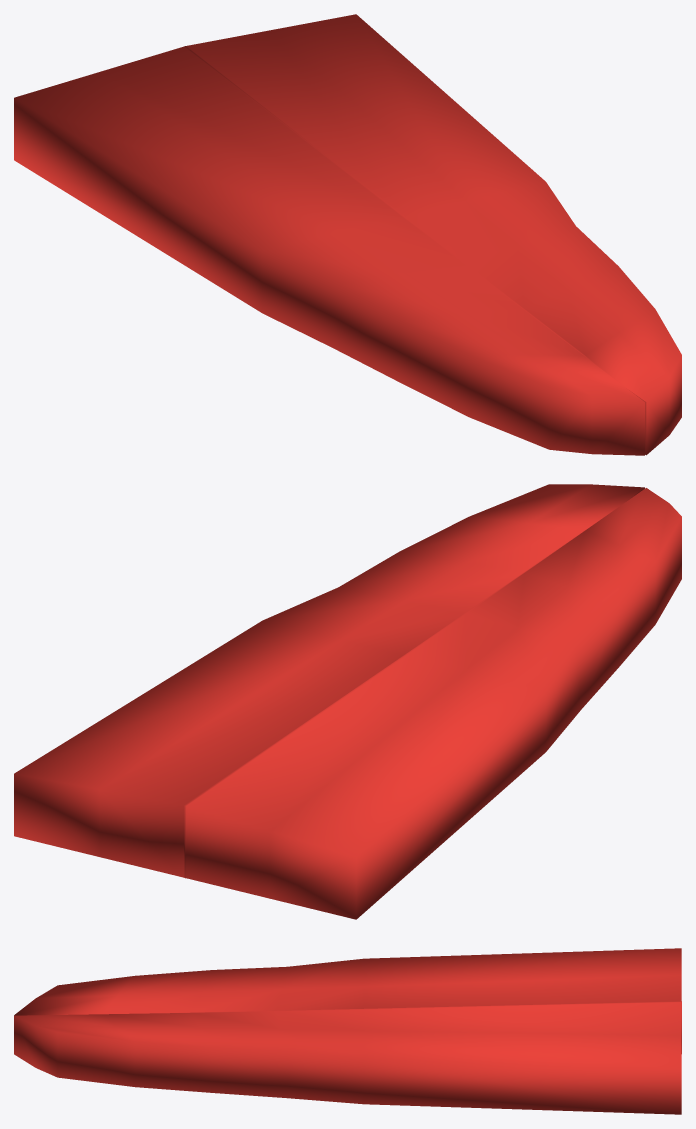
Rendered from sita.fbx.
3 views of the same model, one above another, from view 1: azimuth 30°, elevation 25°; view 2: azimuth 150°, elevation 25°; view 3: azimuth 270°, elevation 25° (orthographic). The views are drawn at different scales.
Visible parts, largest first — view 1: 立方体; view 2: 立方体; view 3: 立方体.
Boxes of the visible parts, left/top/right/bottom form: 立方体: left=14, top=14, right=681, bottom=455; 立方体: left=14, top=484, right=681, bottom=919; 立方体: left=14, top=948, right=681, bottom=1114.
Bounding box in the file's own units: 200 × 40.35 × 466.
